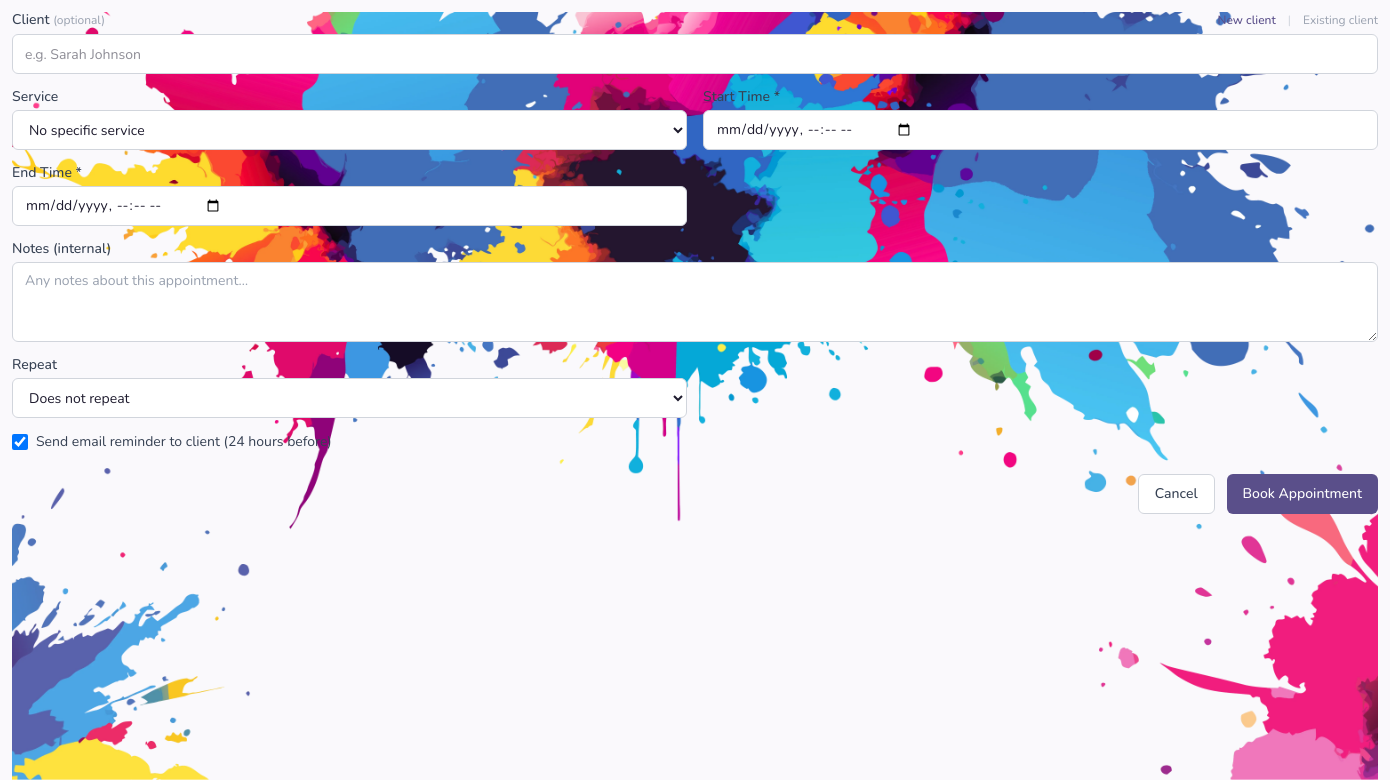
Test: AppointmentForm › validation › shows start time required error when submitting empty form
The width and height of the screenshot is (1390, 780).
Click the button "Book Appointment".
click(1302, 494)  # box [1227,474,1378,514]
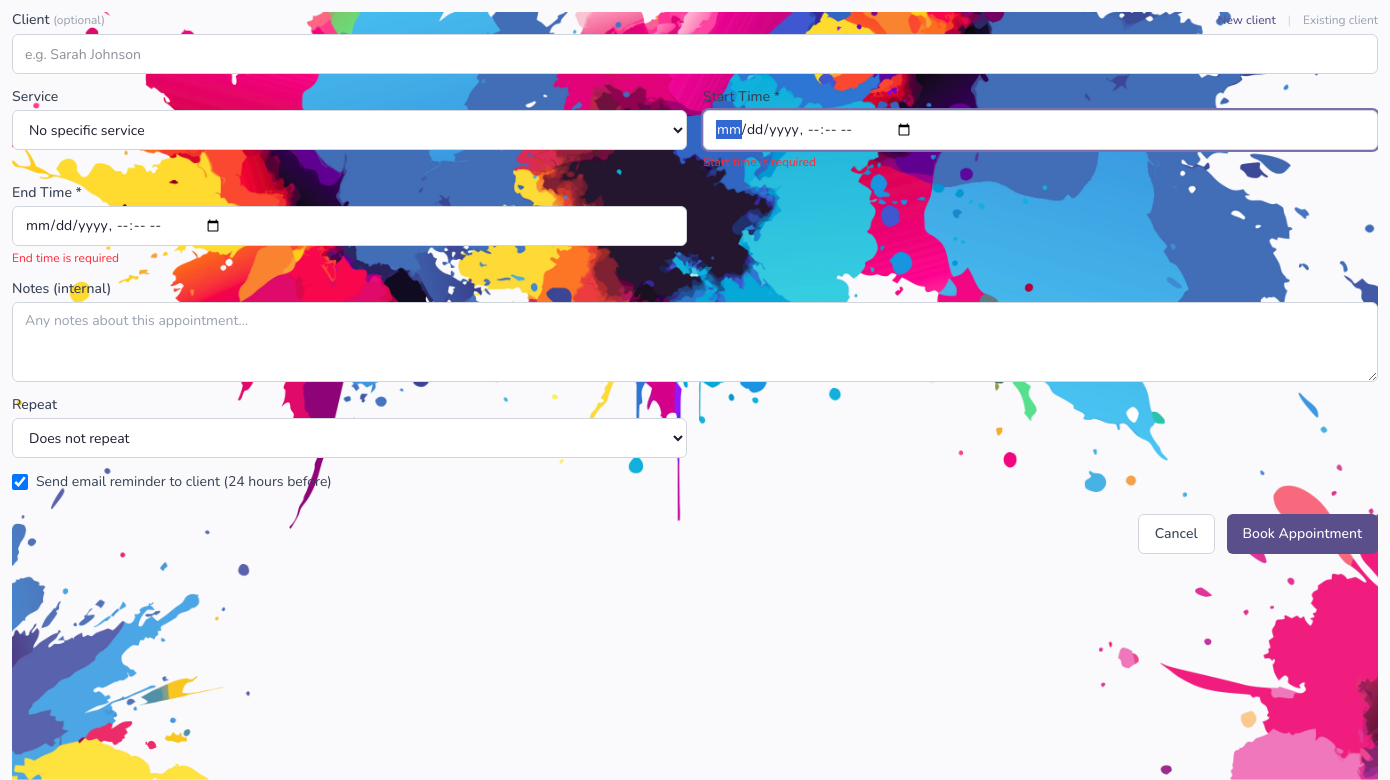
expect the text "Start time is required" is shown: met, box [703,154,816,170]
